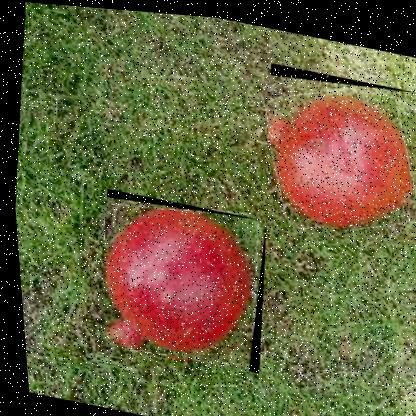pomegranate: (83, 186, 271, 371), (249, 56, 415, 240)
